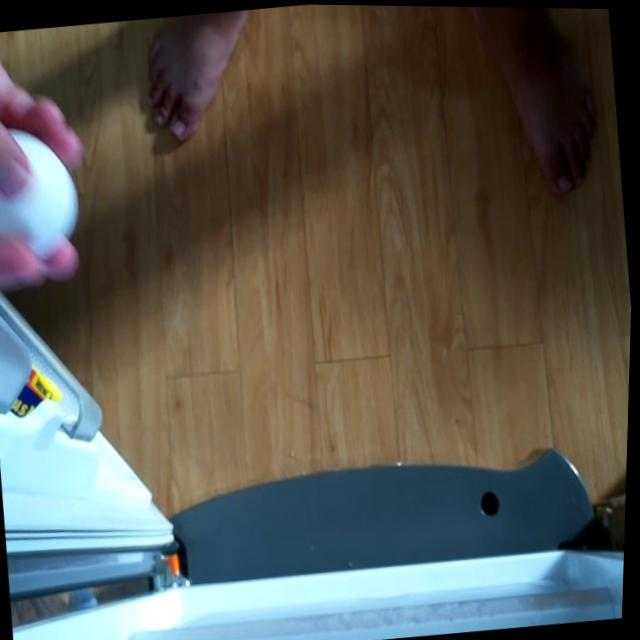egg: (0, 120, 85, 270)
